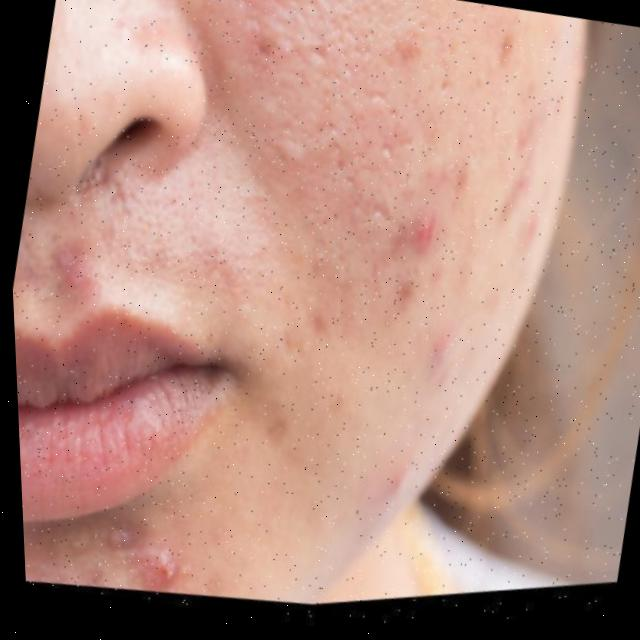Acne: (74, 0, 566, 381)
